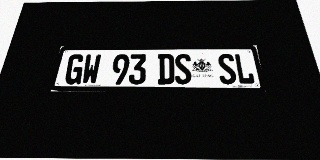3: (128, 54, 146, 84)
9: (111, 54, 130, 84)
D: (158, 54, 175, 84)
G: (64, 54, 85, 84)
L: (234, 53, 255, 84)
S: (217, 54, 238, 84), (174, 54, 192, 84)
W: (81, 54, 101, 84)
